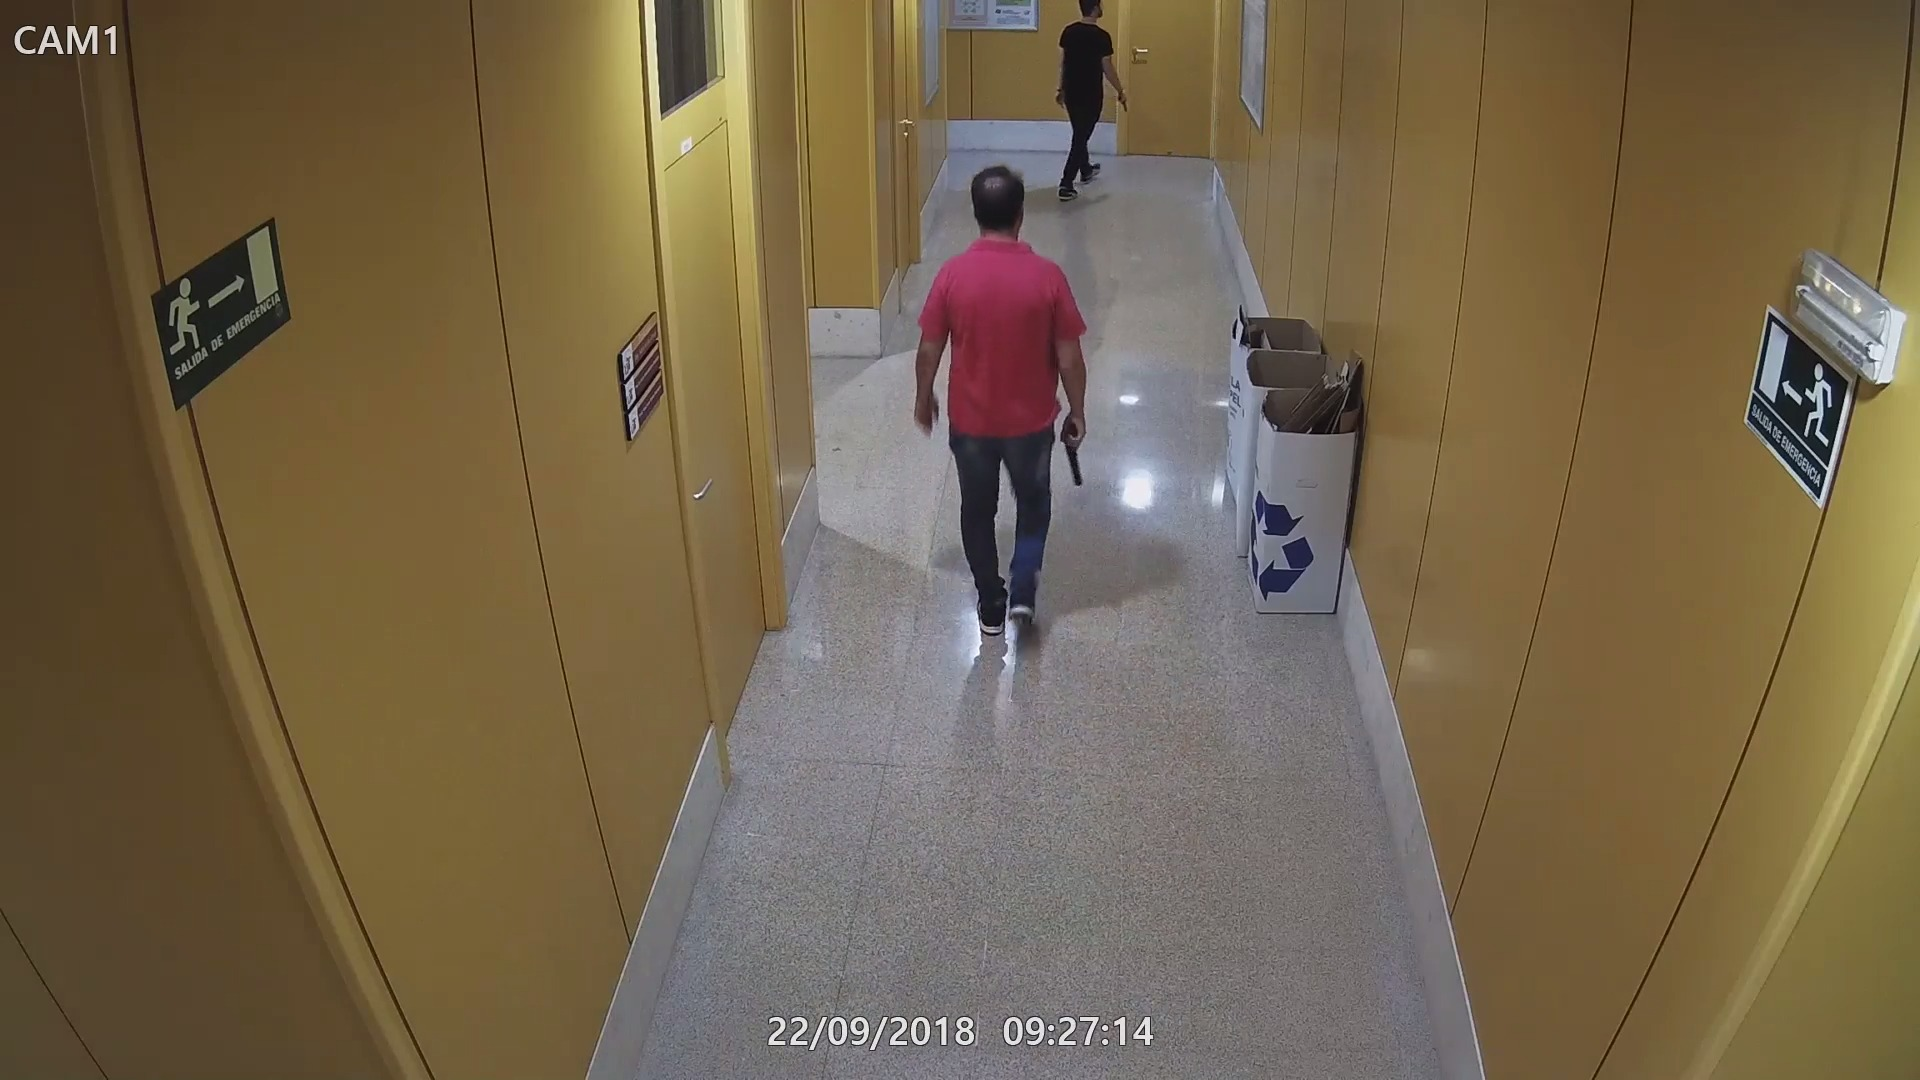Handgun: (1055, 413, 1091, 489), (1108, 80, 1135, 109)
